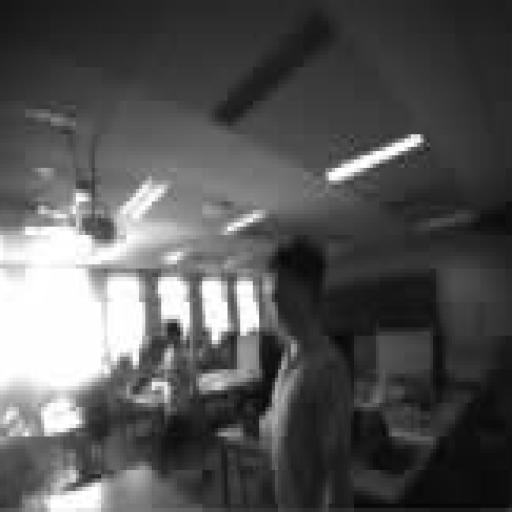human: (266, 236, 353, 511), (165, 319, 195, 411)
